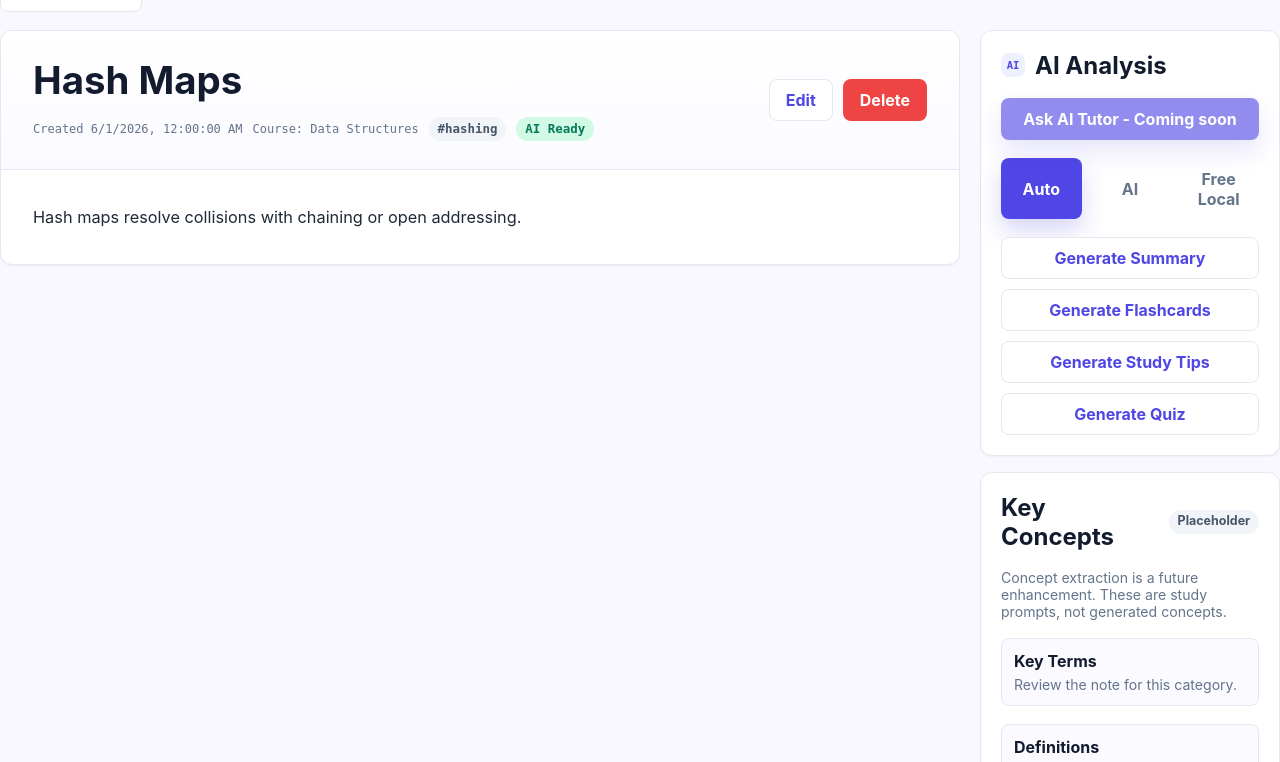
NoteDetail AI actions › shows provider errors when AI mode fails
Step 1. Click the button "AI" → coordinates (1130, 188), box [1090,158,1170,219]
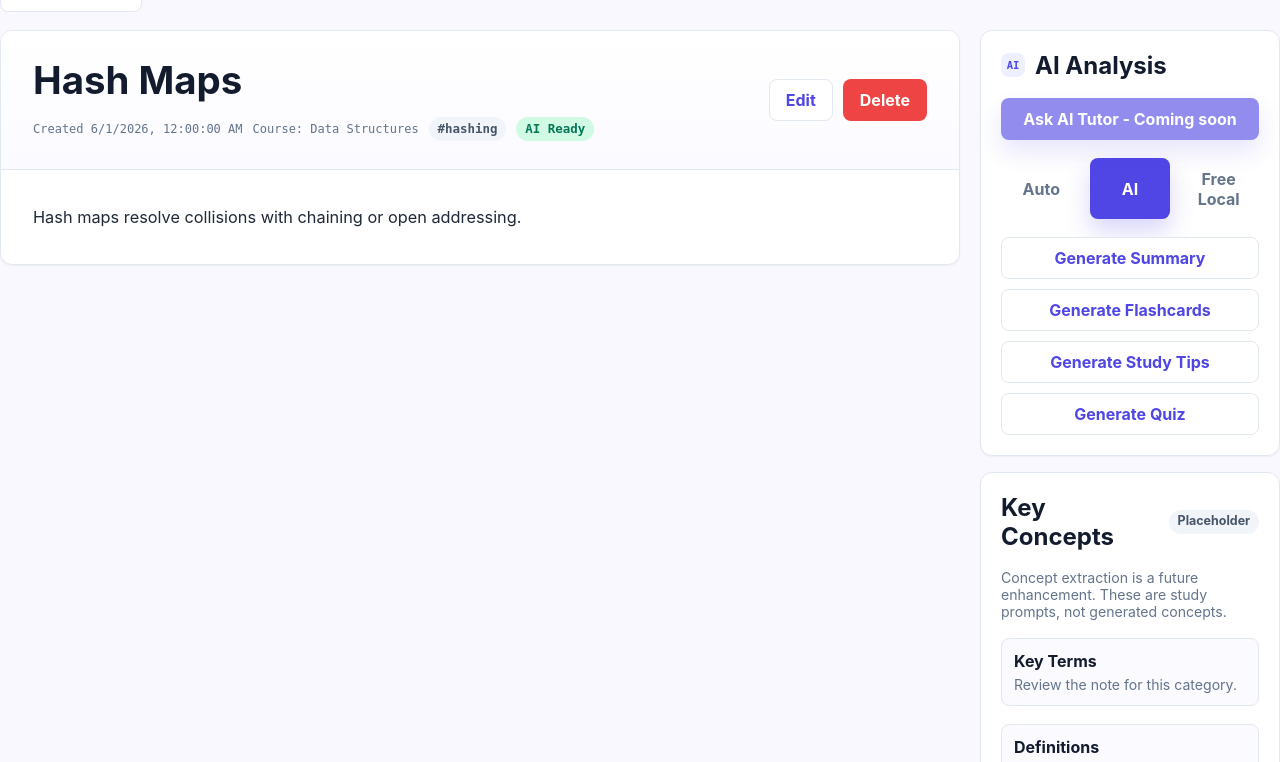
Step 2. Click the button "Generate Summary" → coordinates (1130, 258), box [1001,237,1259,279]
(page scrolled)
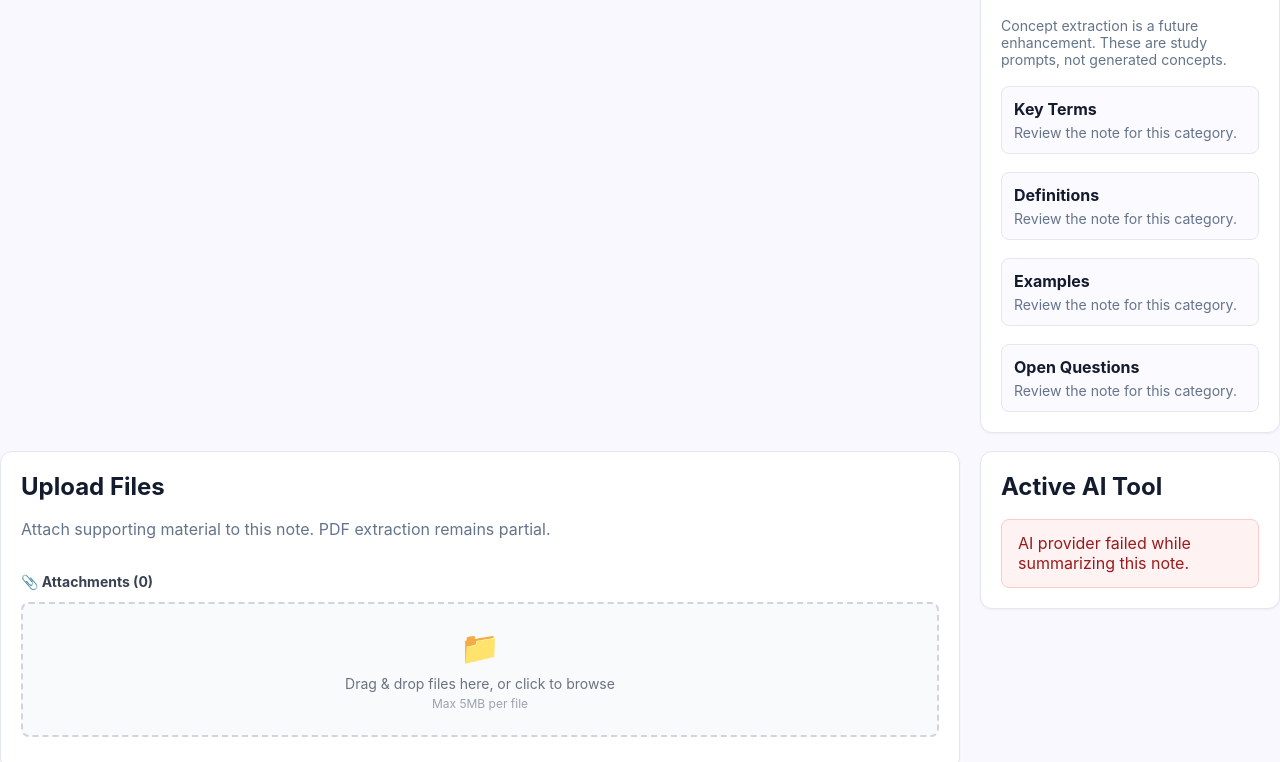
Result: the text "AI provider failed while summarizing this note." is shown at [1001,519,1259,588]
